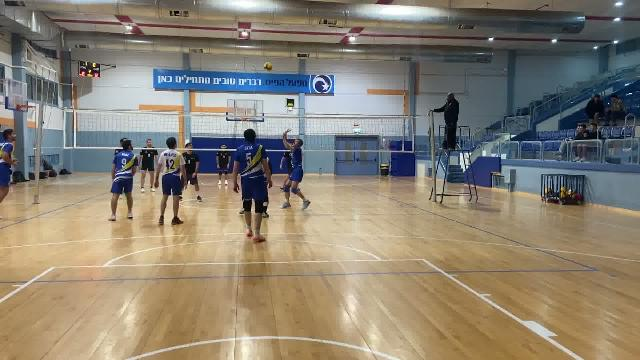ball: (263, 61, 271, 72)
